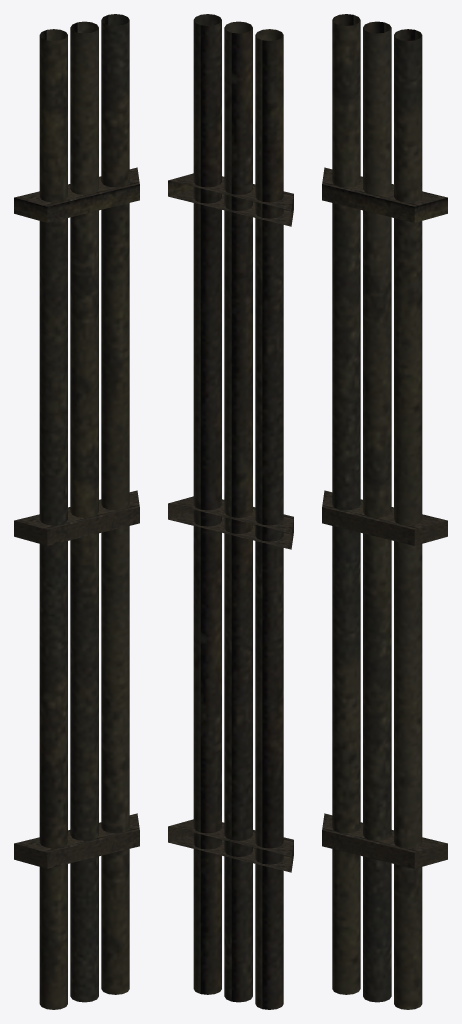
File: pipes_hr_1.dae
The picture shows the model from 3 angles, left to right: view 1: azimuth 30°, elevation 25°; view 2: azimuth 150°, elevation 25°; view 3: azimuth 330°, elevation 25°; orthographic projection.
Parts seen in each view (by area): view 1: pipes_hr_1; view 2: pipes_hr_1; view 3: pipes_hr_1.
Part boxes in pixels (x1,y1,x2,y2): pipes_hr_1: (14,14,139,1009); pipes_hr_1: (168,14,293,1009); pipes_hr_1: (322,14,447,1009).
Size of the model in its own units: 0.4 by 0.1 by 3.
Materials: 1 (1 with a texture image).
